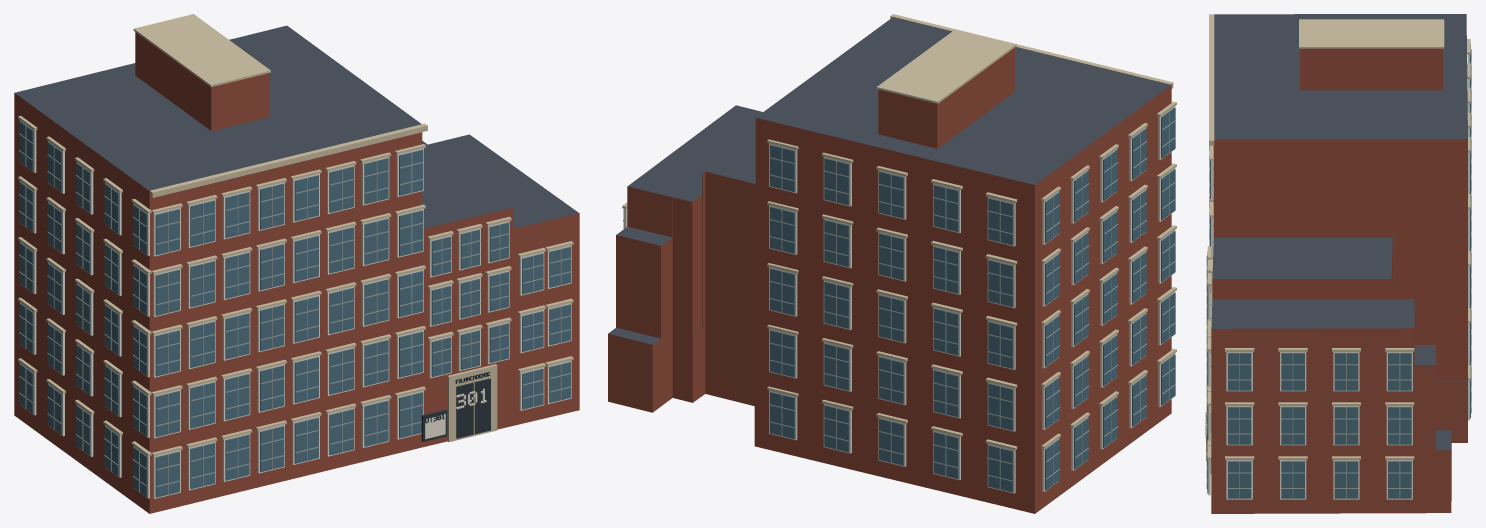
3 renders of one model, left to right at view 1: azimuth 30°, elevation 25°; view 2: azimuth 150°, elevation 25°; view 3: azimuth 270°, elevation 25°, orthographic. The views are drawn at different scales.
Parts seen in each view (by area): view 1: ot301; view 2: ot301; view 3: ot301.
Boxes of the visible parts, left/top/right/bottom form: ot301: left=14, top=14, right=579, bottom=513; ot301: left=608, top=14, right=1176, bottom=513; ot301: left=1205, top=14, right=1471, bottom=513.
Size of the model in its own units: 30.18 by 24.38 by 16.95.
